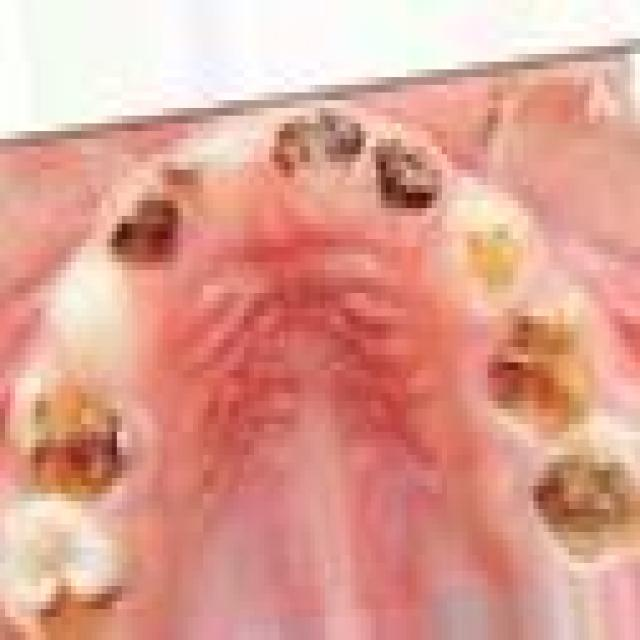caries: (477, 305, 607, 439), (528, 416, 640, 570), (6, 370, 140, 498), (5, 532, 127, 640), (269, 103, 373, 202), (461, 194, 540, 316), (106, 174, 194, 281), (366, 124, 450, 222)
